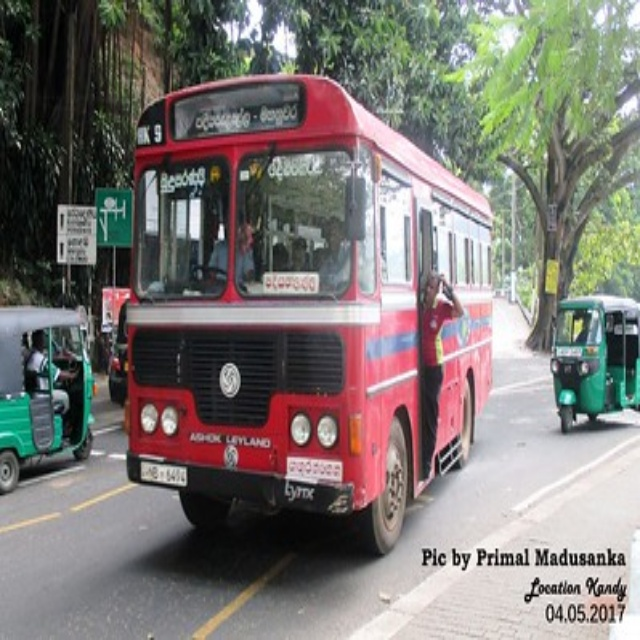Bus: (127, 72, 496, 556)
Motorcycle: (2, 306, 98, 496), (550, 294, 640, 435)
